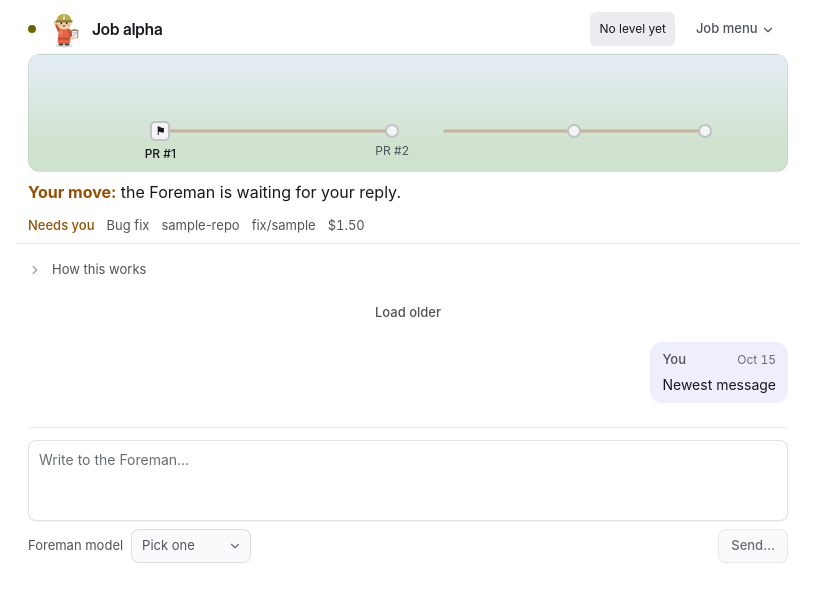
Test: Foreman pane › loads older items before the first one shown
The image size is (817, 606).
Expected: the text "Newest message" is shown, [662,374,776,394]
What coordinates should you click on to do the following:
click the button "Load older"
I would click on:
 (408, 313)
Its box is [362,296,454,330].
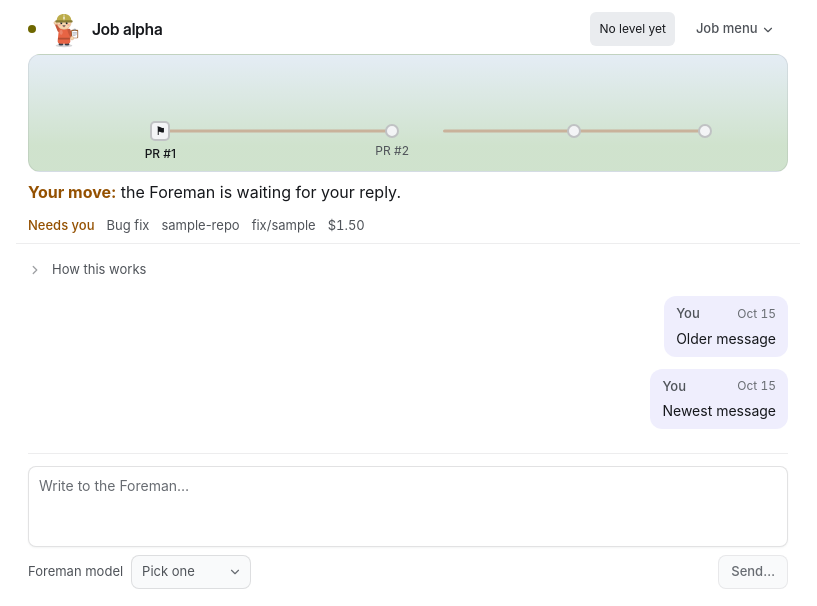
Result: the text "Older message" is shown at [676,328,776,348]
Result: the button "Load older" is gone
